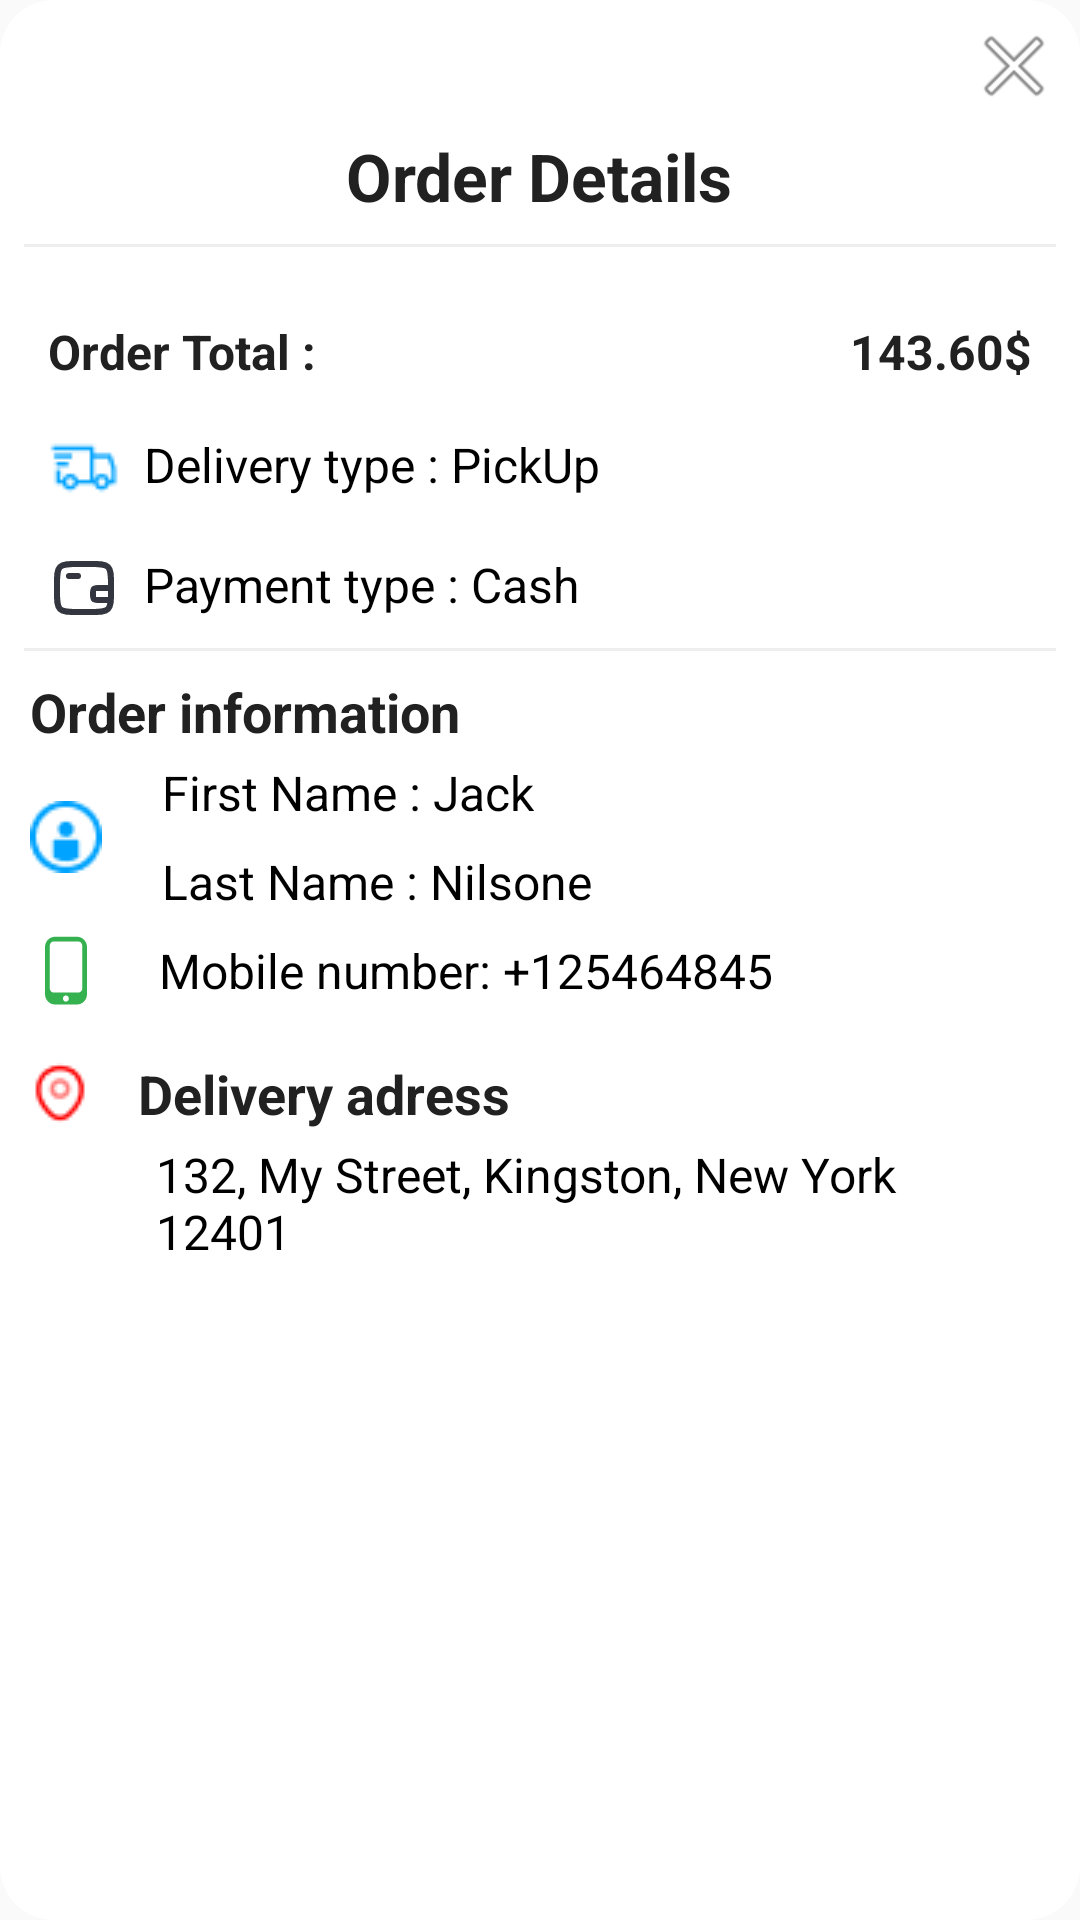

Screen size 1080×1920. Icon name, then its box in pixels as BBox(x1, y1, x2, y2):
cash wallet: BBox(54, 561, 114, 615)
close clear cancel: BBox(984, 36, 1044, 96)
kamyoun: BBox(50, 444, 118, 492)
location: BBox(35, 1065, 85, 1121)
phone: BBox(45, 936, 87, 1005)
user: BBox(30, 801, 102, 873)
